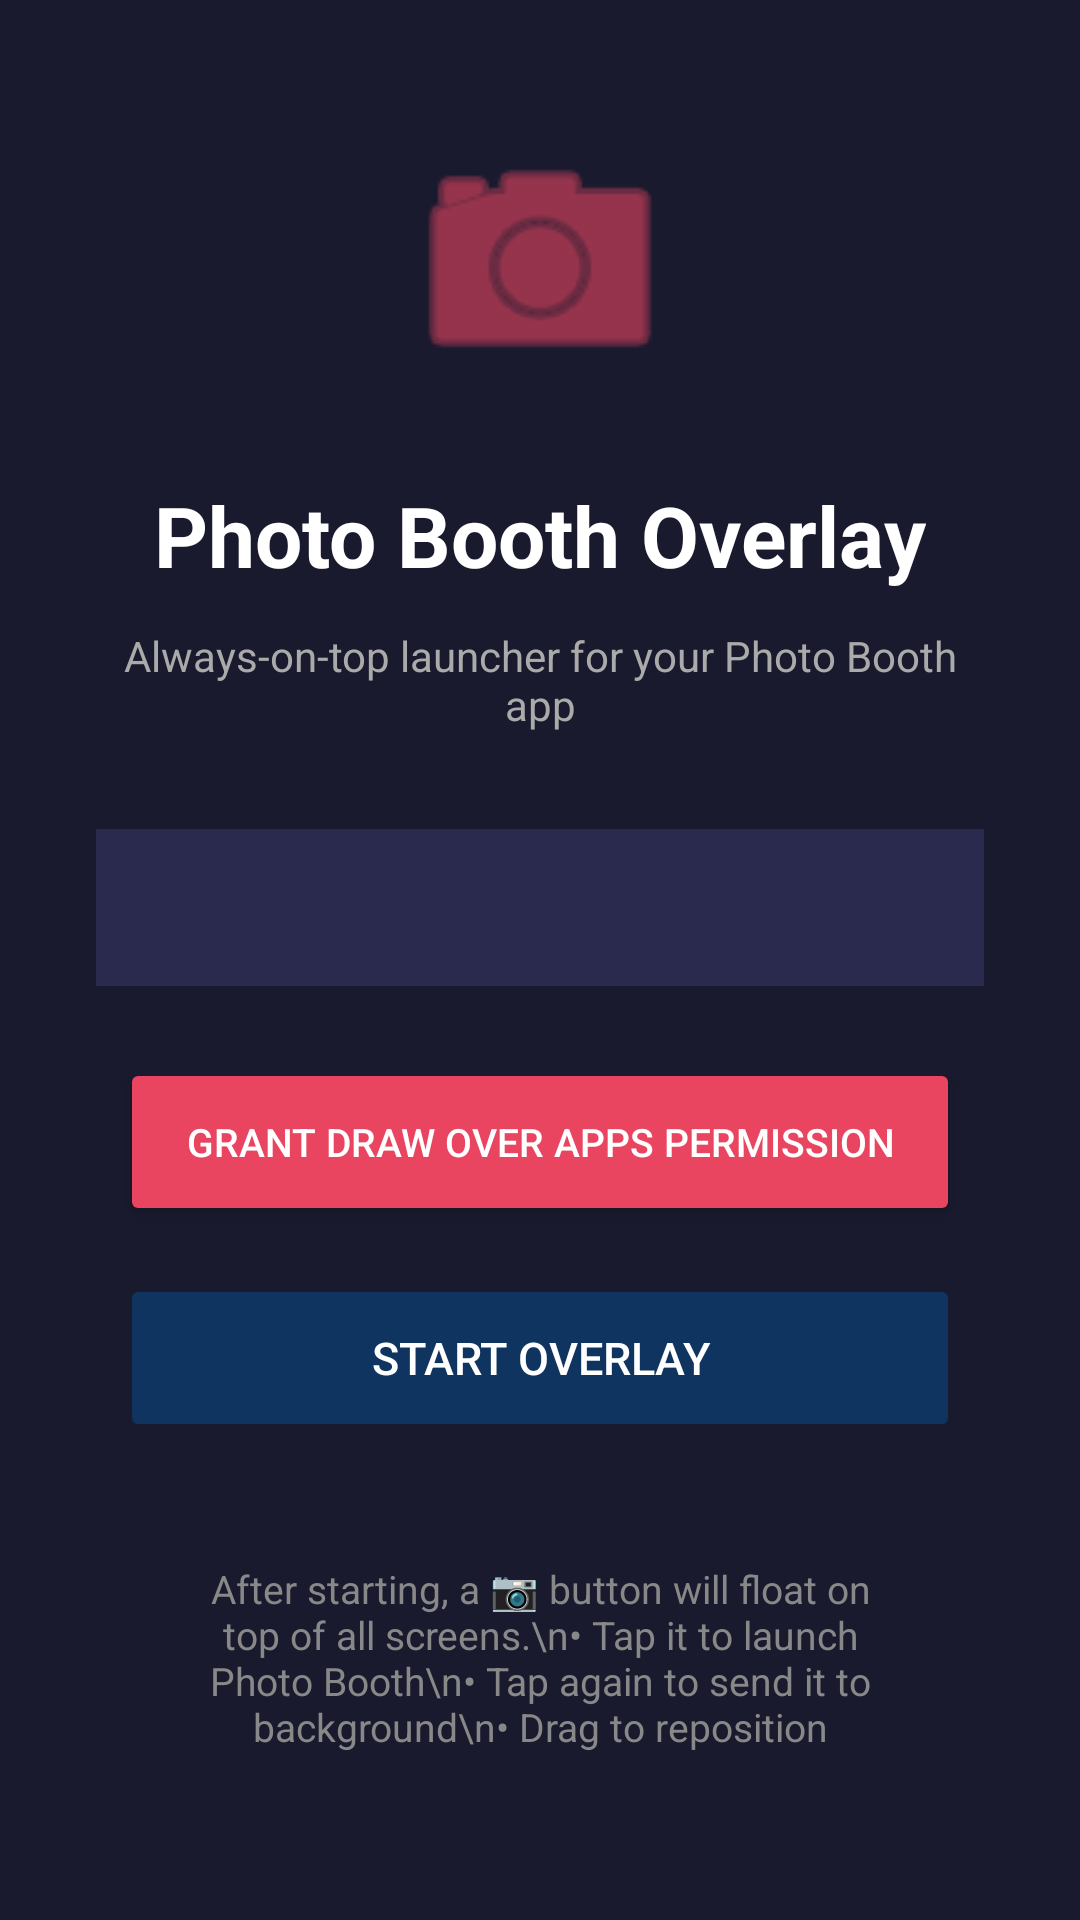

Screen size 1080 x 1920. Icon name, then its box in pixels as (x1, y1, x2, y2):
camera: (429, 170, 651, 347)
